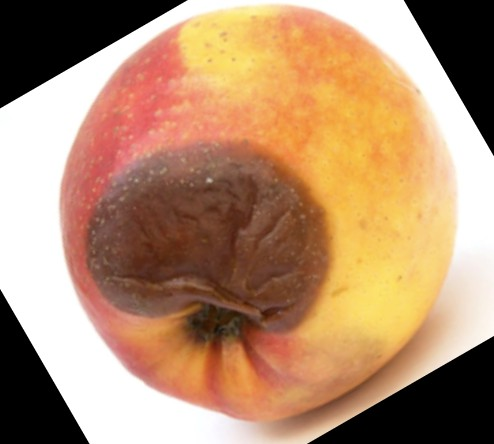rotten_apple: (60, 4, 456, 422)
